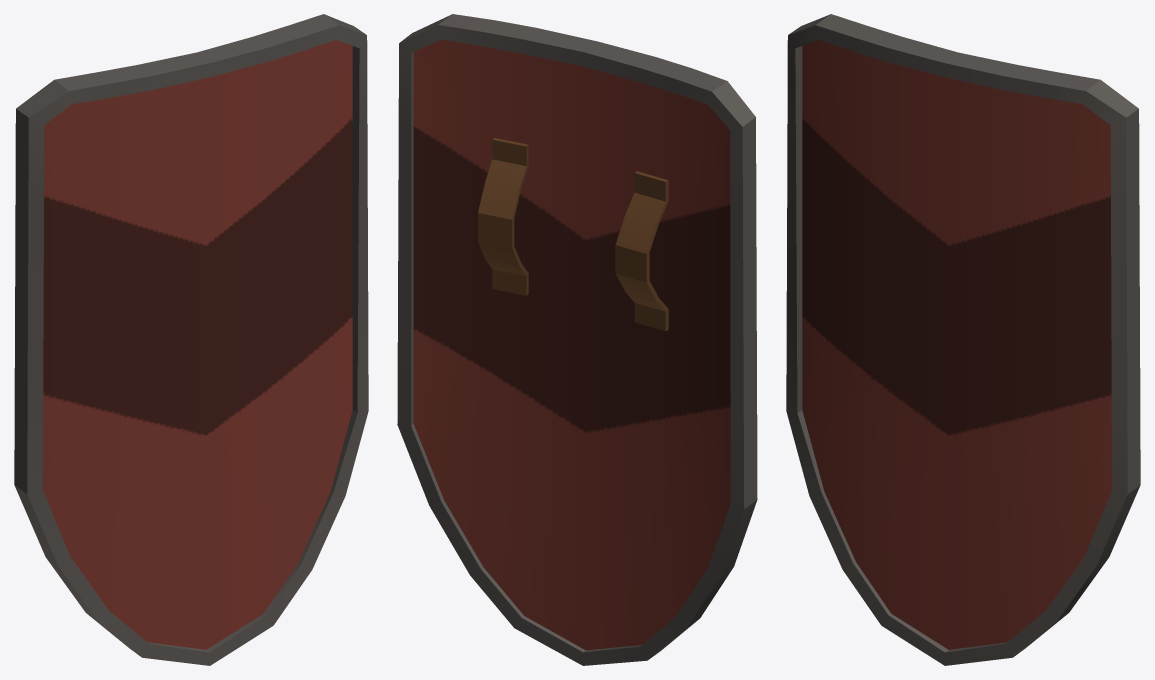
The model's file is Heater Shield_Red.fbx.
The picture shows the model from 3 angles, left to right: view 1: azimuth 30°, elevation 25°; view 2: azimuth 150°, elevation 25°; view 3: azimuth 330°, elevation 25°; orthographic projection.
Parts seen in each view (by area): view 1: Heater Shield_Red_Baked; view 2: Heater Shield_Red_Baked; view 3: Heater Shield_Red_Baked.
Boxes of the visible parts, x1,y1,x2,y2 form: Heater Shield_Red_Baked: (14, 14, 368, 665); Heater Shield_Red_Baked: (397, 14, 757, 665); Heater Shield_Red_Baked: (786, 14, 1140, 665).
Size of the model in its own units: 49.83 by 84.28 by 8.78.
Materials: 1 (1 with a texture image).
